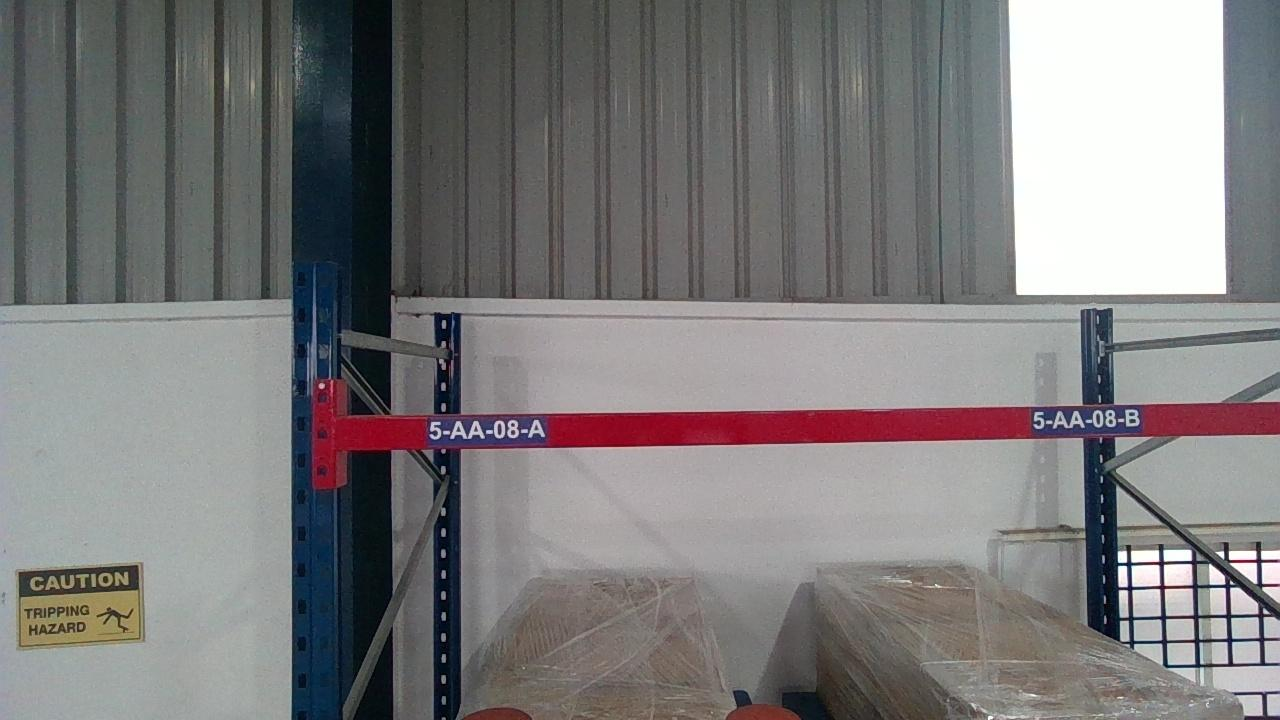h_rack: (333, 411, 1280, 438)
